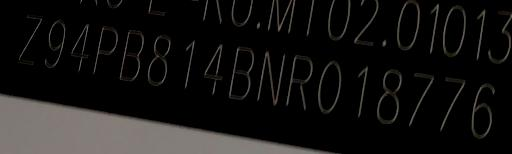letter: (252, 45, 290, 105), (374, 63, 408, 124), (282, 50, 316, 110), (468, 77, 500, 140), (436, 73, 470, 130), (343, 59, 375, 119), (404, 69, 438, 124), (226, 43, 258, 101), (15, 12, 47, 67), (316, 55, 344, 115), (66, 19, 96, 74), (116, 27, 146, 82), (201, 39, 229, 97), (144, 31, 174, 85), (90, 22, 120, 75), (174, 36, 202, 91), (42, 18, 70, 69)
